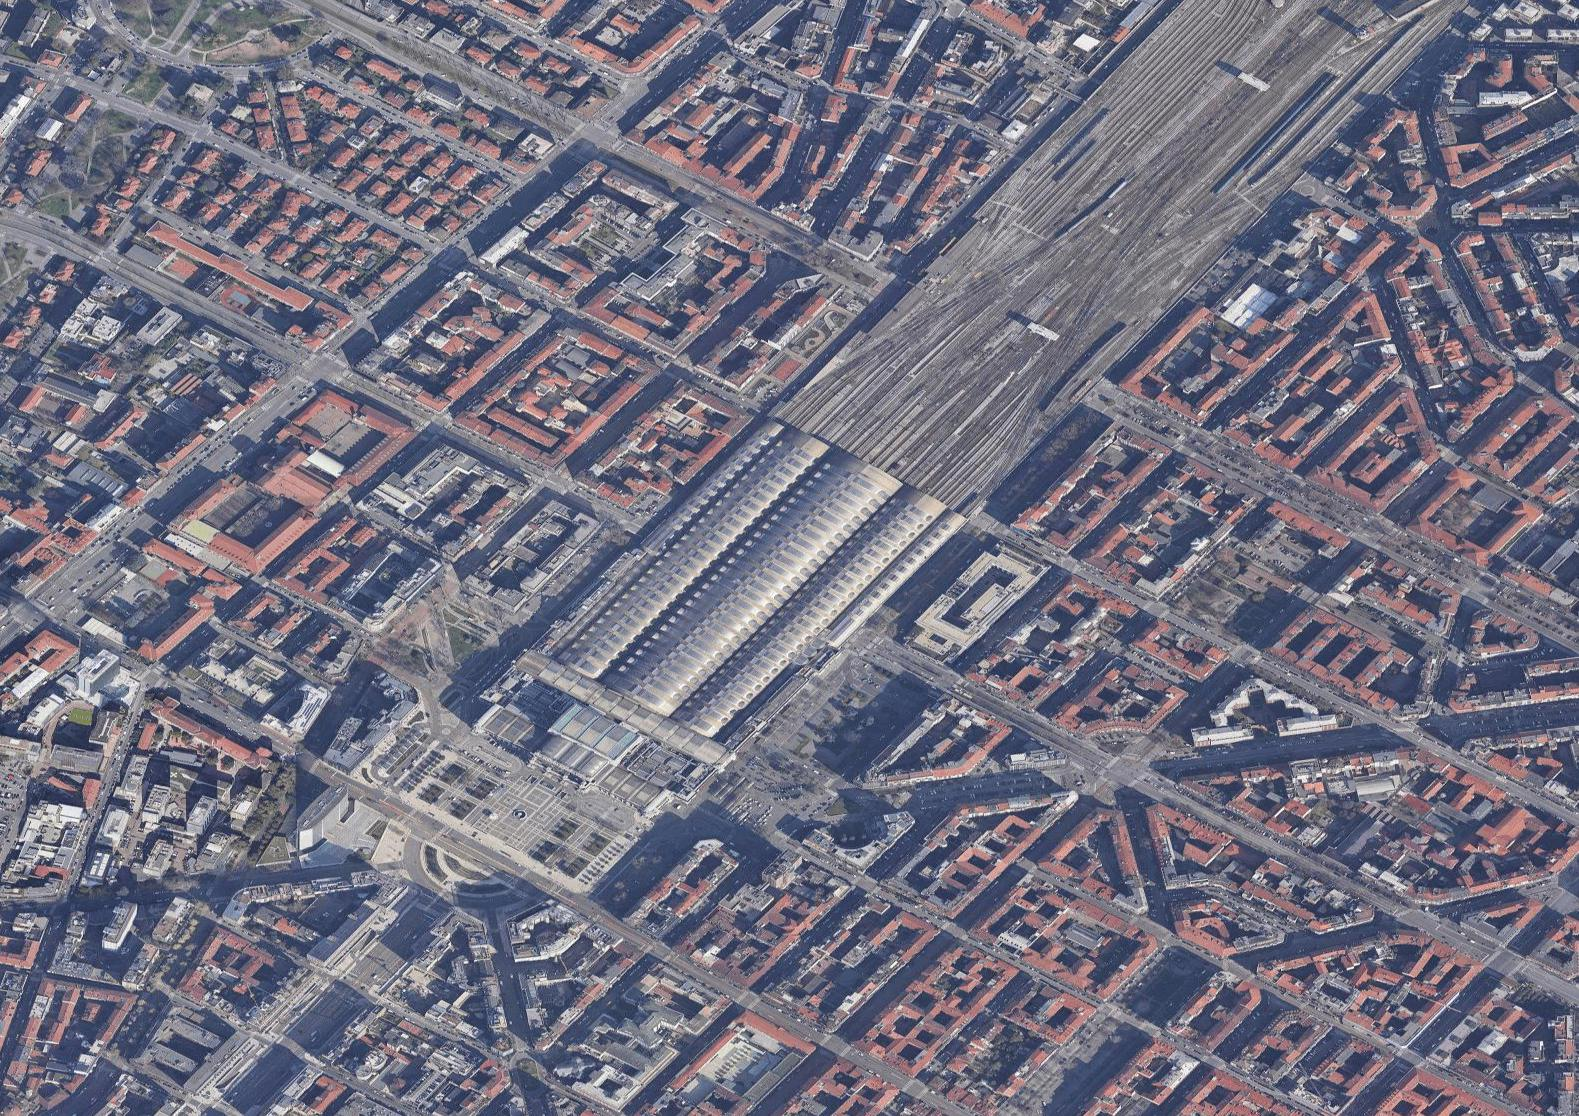train_station: (535, 400, 975, 772)
